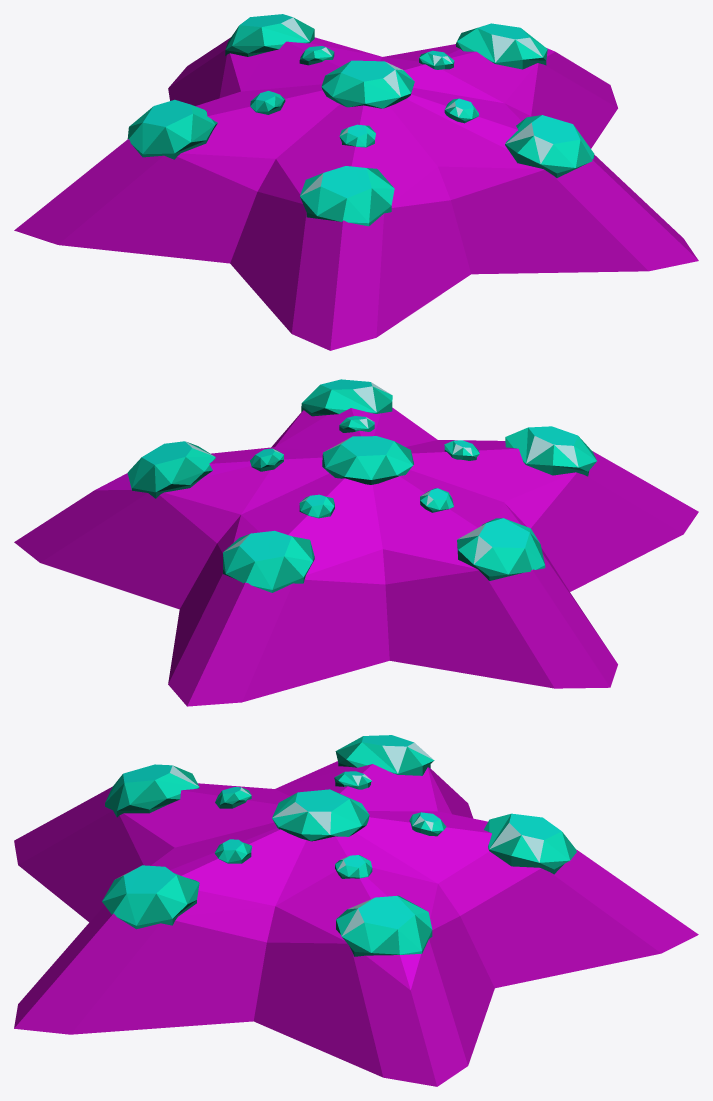
File: starfish_pink.fbx
3 views of the same model, one above another, from view 1: azimuth 30°, elevation 25°; view 2: azimuth 150°, elevation 25°; view 3: azimuth 270°, elevation 25° (orthographic). The views are drawn at different scales.
Parts seen in each view (by area): view 1: starfish_pink; view 2: starfish_pink; view 3: starfish_pink.
Part boxes in pixels (left/top/right/bottom): starfish_pink: left=14, top=14, right=698, bottom=350; starfish_pink: left=14, top=379, right=698, bottom=706; starfish_pink: left=14, top=735, right=698, bottom=1086.
Bounding box in the file's own units: 0.7089 × 0.1461 × 0.6742.
